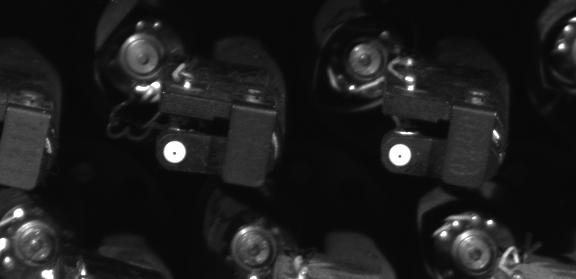fiber: (383, 138, 417, 171), (159, 137, 192, 168)
